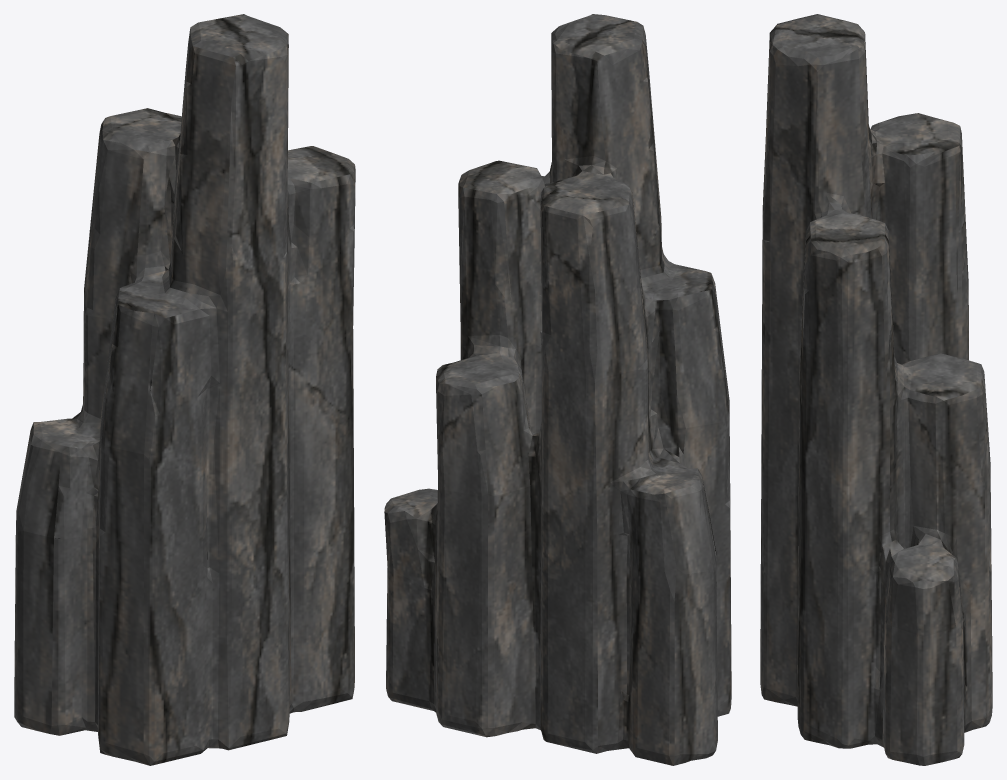
The model's file is basalt.glb.
The picture shows the model from 3 angles, left to right: view 1: azimuth 30°, elevation 25°; view 2: azimuth 150°, elevation 25°; view 3: azimuth 270°, elevation 25°; orthographic projection. The views are drawn at different scales.
Visible parts, largest first — view 1: Basalt02Natural_Painted_360; view 2: Basalt02Natural_Painted_360; view 3: Basalt02Natural_Painted_360.
Boxes of the visible parts, left/top/right/bottom form: Basalt02Natural_Painted_360: left=14, top=14, right=355, bottom=765; Basalt02Natural_Painted_360: left=384, top=14, right=731, bottom=765; Basalt02Natural_Painted_360: left=760, top=14, right=992, bottom=765.
Size of the model in its own units: 0.1029 by 0.2 by 0.0639.
1 material, 1 textured.
